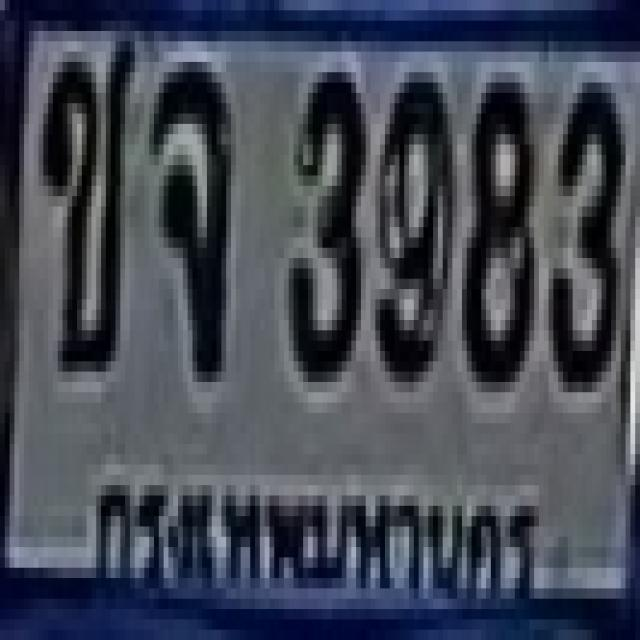3: (284, 62, 361, 372), (544, 72, 621, 382)
8: (462, 72, 529, 372)
9: (373, 62, 445, 372)
A08: (149, 62, 226, 372)
A10: (38, 31, 130, 361)
BKK: (91, 451, 546, 618)
